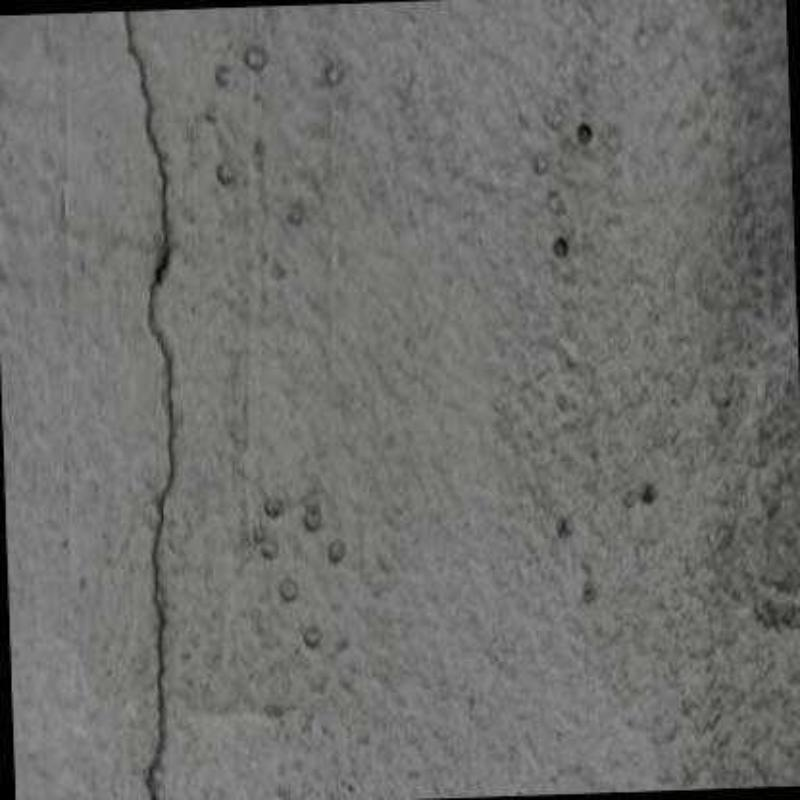pothole: (120, 9, 176, 798)
